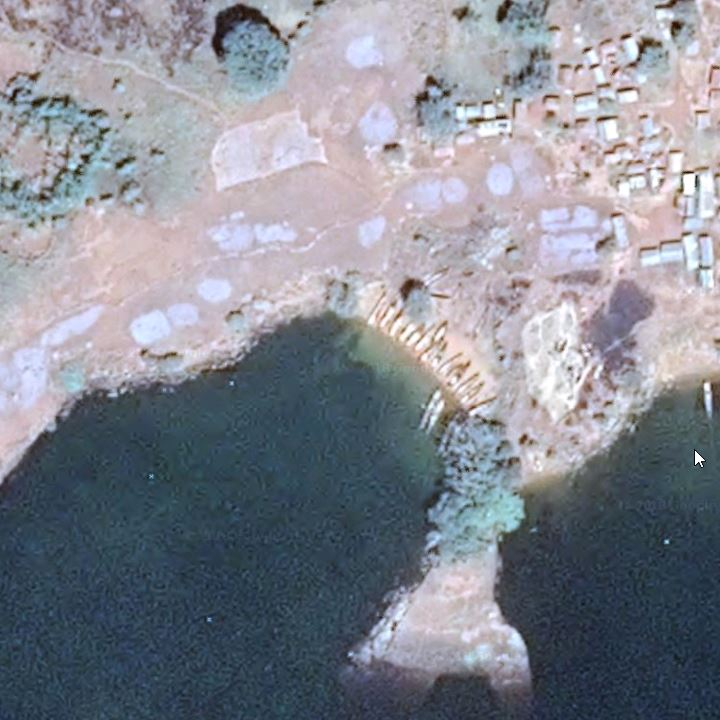boat: (417, 383, 443, 434), (364, 287, 389, 331), (425, 399, 450, 441), (432, 347, 463, 379), (464, 396, 502, 421), (698, 380, 718, 423), (453, 372, 482, 400), (425, 339, 450, 371), (459, 380, 488, 406), (378, 299, 397, 338), (415, 339, 438, 366), (449, 367, 474, 391), (387, 308, 405, 341), (398, 316, 417, 346), (405, 323, 423, 354), (432, 318, 450, 346)
